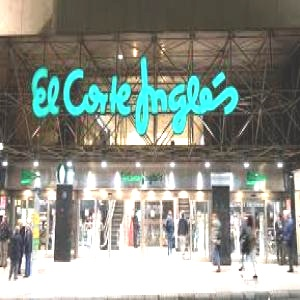corte_ingles: (227, 31, 255, 93)
